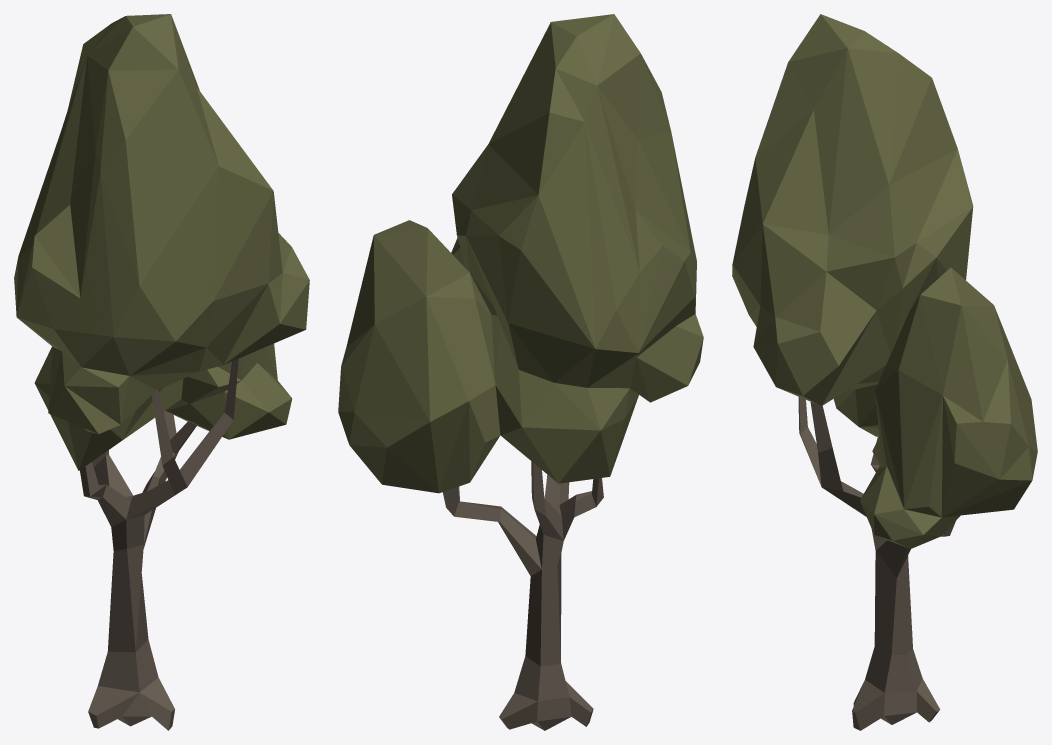
The model's file is env_tree_round2.gltf.
3 renders of one model, left to right at view 1: azimuth 30°, elevation 25°; view 2: azimuth 150°, elevation 25°; view 3: azimuth 270°, elevation 25°, orthographic. The views are drawn at different scales.
Parts seen in each view (by area): view 1: env_tree_round2; view 2: env_tree_round2; view 3: env_tree_round2.
Boxes of the visible parts, <box> form: env_tree_round2: <box>14,14,309,730</box>; env_tree_round2: <box>338,14,703,730</box>; env_tree_round2: <box>732,14,1037,730</box>.
Bounding box in the file's own units: 3.38 × 8.08 × 3.22.
1 material, 1 textured.
